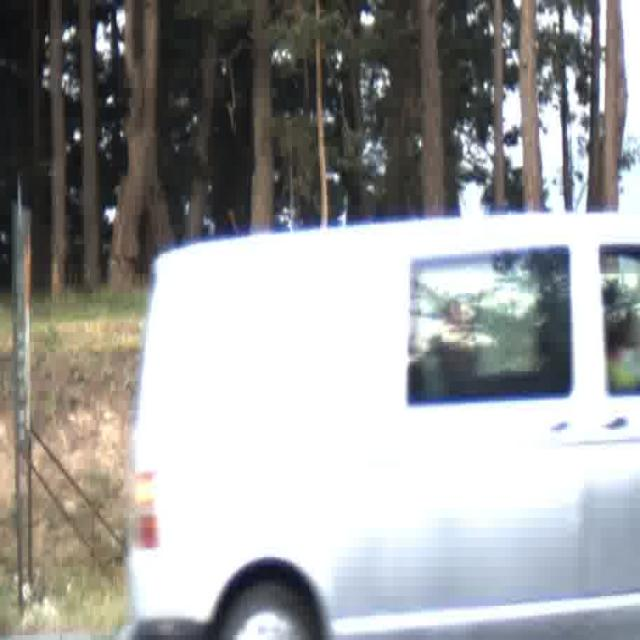Car: (130, 217, 640, 639)
